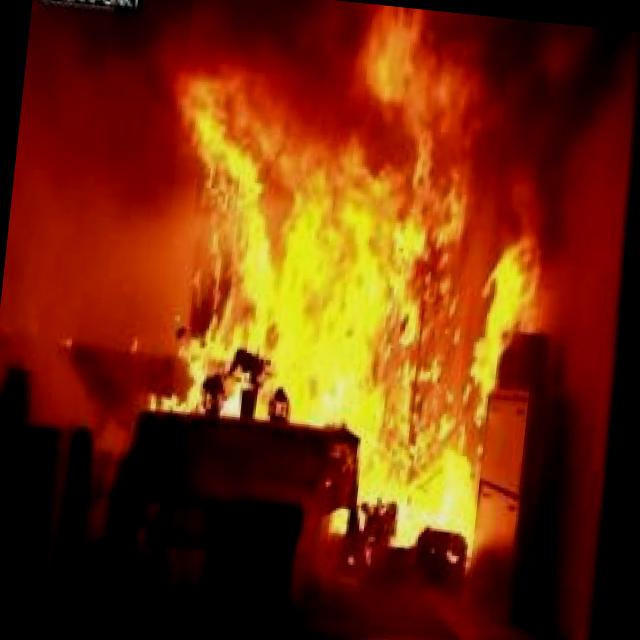fire: (88, 0, 609, 586)
